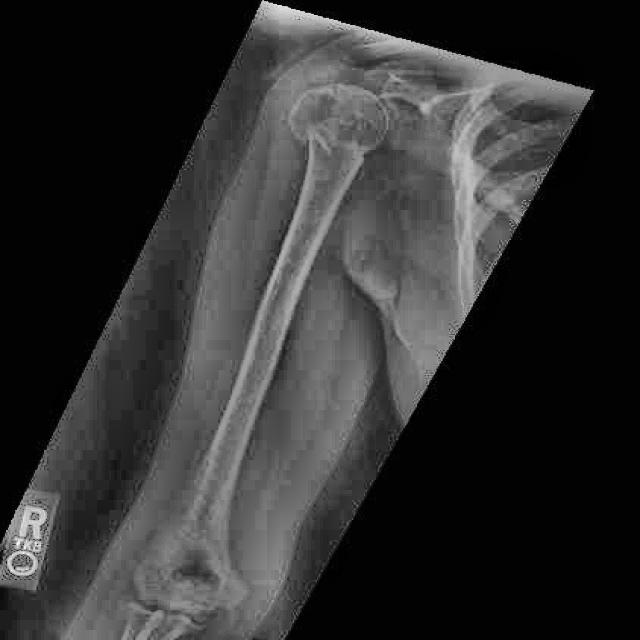humerus: (279, 110, 380, 172)
